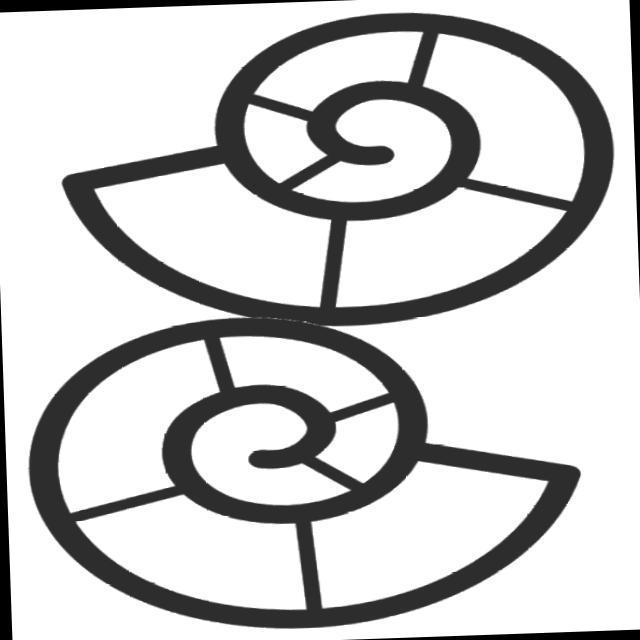fossil: (15, 290, 600, 640), (37, 1, 628, 343)
